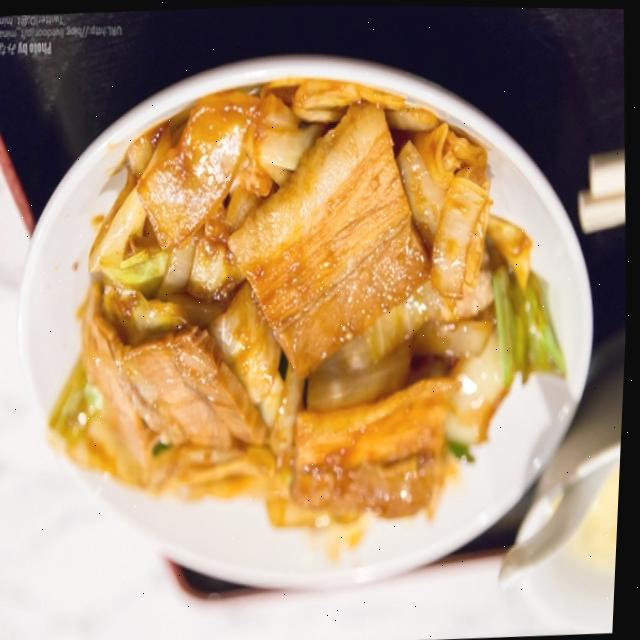猪肉菜式: (0, 35, 600, 594)
